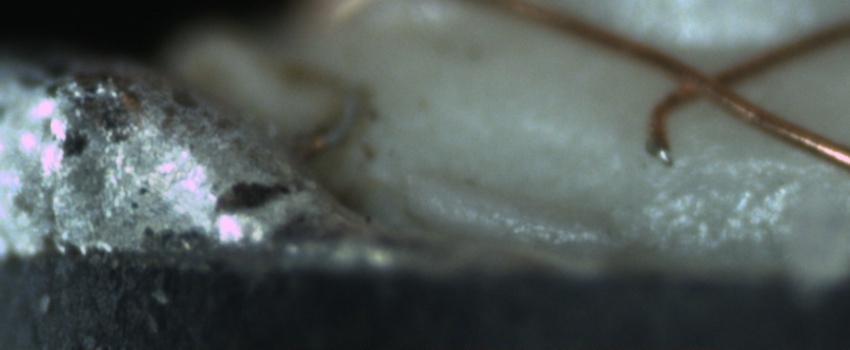CL: (665, 50, 757, 116)
DL: (668, 146, 849, 188)
